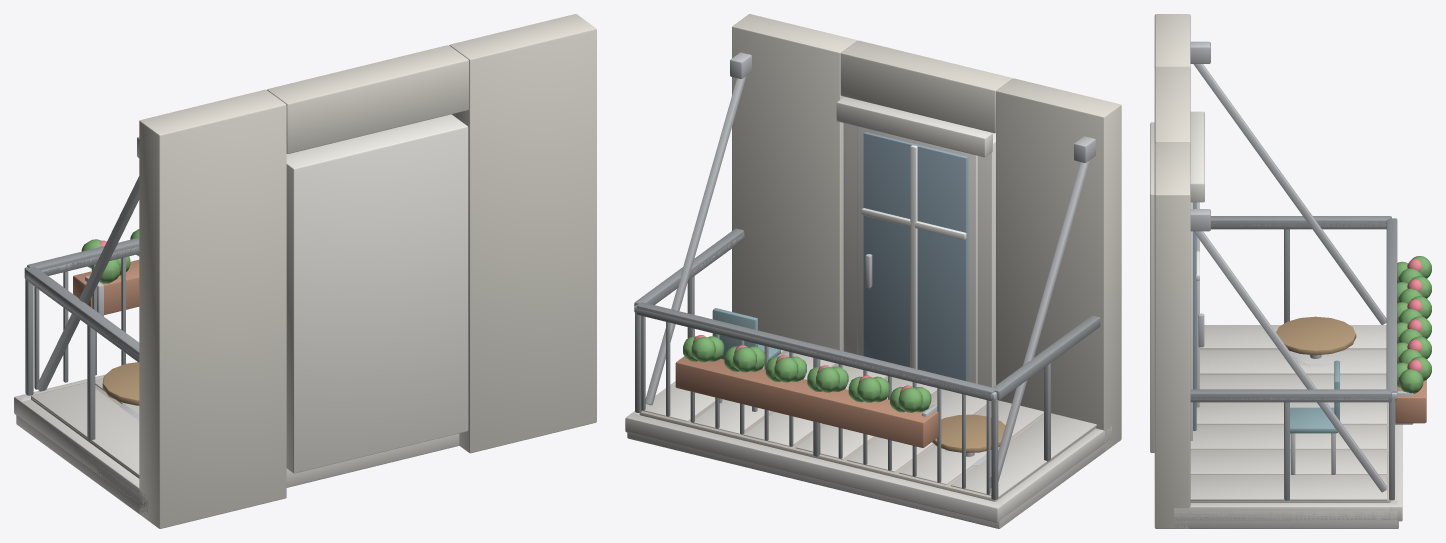
File: th22_balkon_modul.glb
3 renders of one model, left to right at view 1: azimuth 30°, elevation 25°; view 2: azimuth 150°, elevation 25°; view 3: azimuth 270°, elevation 25°, orthographic. The views are drawn at different scales.
Parts seen in each view (by area): view 1: Cube, Cube.003, Cube.001, Cube.002, Cube.010, Cube.012, Cube.020, Cube.052, Cube.026, Cube.056, Cube.022, Cylinder (+2 smaller); view 2: Cube, Cube.001, Cube.005, Cube.002, Cube.056, Cube.019, Cube.003, Cube.022, Cube.004, Cube.009, Cube.012, Cube.010 (+20 smaller); view 3: Cube.001, Cube.018, Cube.017, Cube.013, Cube.010, Cube.016, Cube.021, Cube.015, Cube.002, Cube.030, Cube.052, Cube.054 (+22 smaller).
Part boxes in pixels (box(x1,y1,x2,y2)): Cube: box(139, 89, 286, 528); Cube.003: box(286, 114, 468, 473); Cube.001: box(449, 14, 596, 453); Cube.002: box(267, 45, 468, 153); Cube.010: box(16, 414, 459, 515); Cube.012: box(31, 382, 139, 476); Cube.020: box(16, 396, 148, 507); Cube.052: box(36, 176, 139, 391); Cube.026: box(24, 266, 139, 362); Cube.056: box(73, 260, 139, 314); Cube.022: box(27, 237, 139, 275); Cylinder: box(102, 362, 139, 405); Cube: box(996, 78, 1121, 451); Cube.001: box(732, 14, 857, 351); Cube.005: box(863, 132, 968, 381); Cube.002: box(840, 40, 1012, 133); Cube.056: box(675, 356, 938, 447); Cube.019: box(625, 413, 1003, 522); Cube.003: box(843, 123, 995, 387); Cube.022: box(636, 302, 995, 400); Cube.004: box(857, 126, 977, 383); Cube.009: box(836, 97, 992, 157); Cube.012: box(951, 413, 1096, 498); Cube.010: box(627, 432, 1104, 528); Cube.001: box(1154, 142, 1190, 528); Cube.018: box(1190, 476, 1387, 500); Cube.017: box(1190, 451, 1387, 474); Cube.013: box(1200, 350, 1386, 374); Cube.010: box(1174, 511, 1398, 528); Cube.016: box(1190, 425, 1387, 449); Cube.021: box(1174, 501, 1397, 520); Cube.015: box(1196, 402, 1387, 424); Cube.002: box(1154, 67, 1190, 143); Cube.030: box(1190, 389, 1391, 402); Cube.052: box(1193, 64, 1386, 324); Cube.054: box(1193, 231, 1387, 492).
Size of the model in its own units: 3.6 by 3.1 by 2.37.
